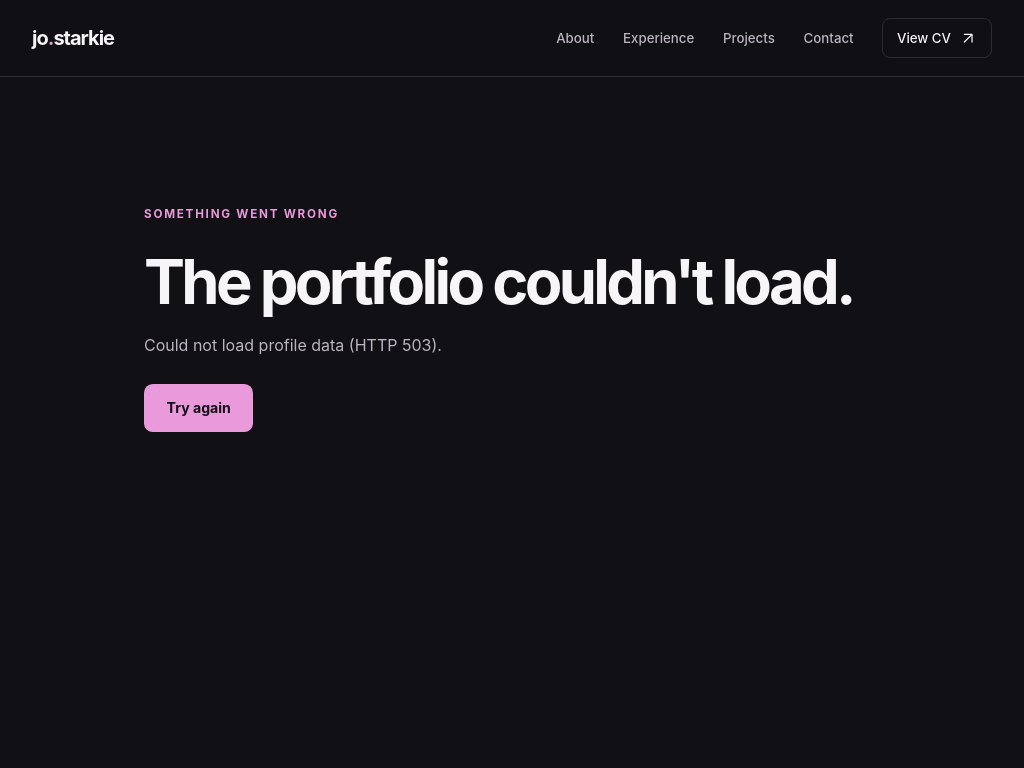
it: portfolio › surfaces HTTP failures and allows a successful retry
The image size is (1024, 768).
Check: the message shows "HTTP 503", box [144, 336, 442, 356]
Click the button "Try again".
click(199, 408)  # box [144, 384, 253, 432]
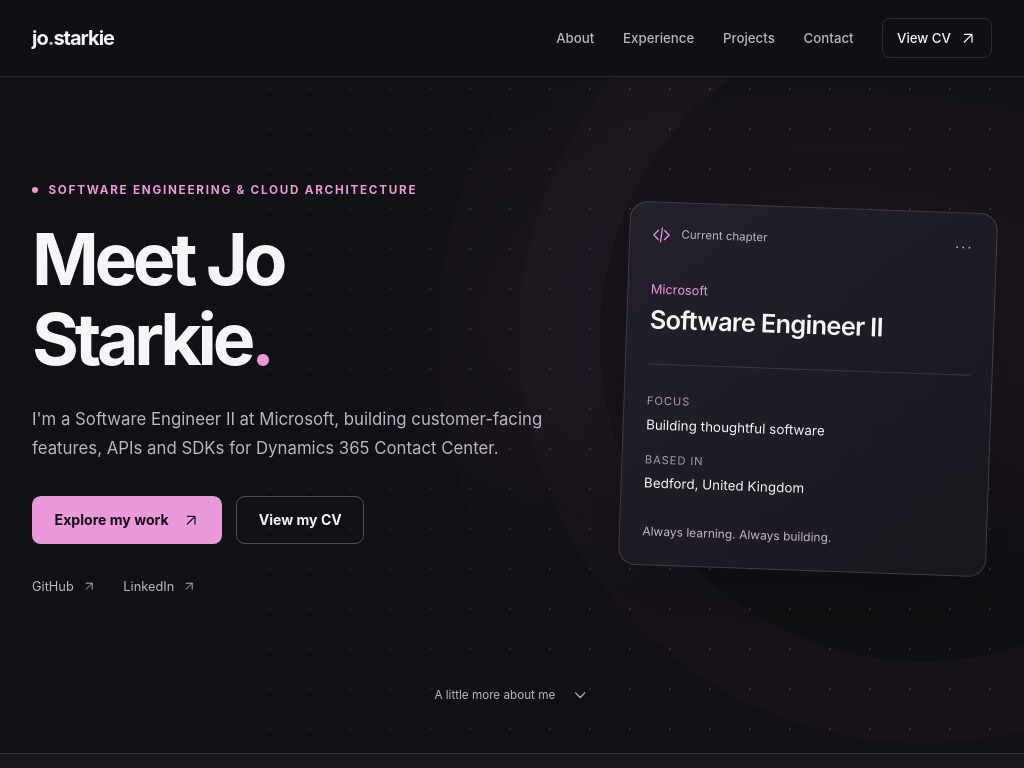
Check: the heading "Meet Jo Starkie." is shown, box [32, 216, 283, 382]
